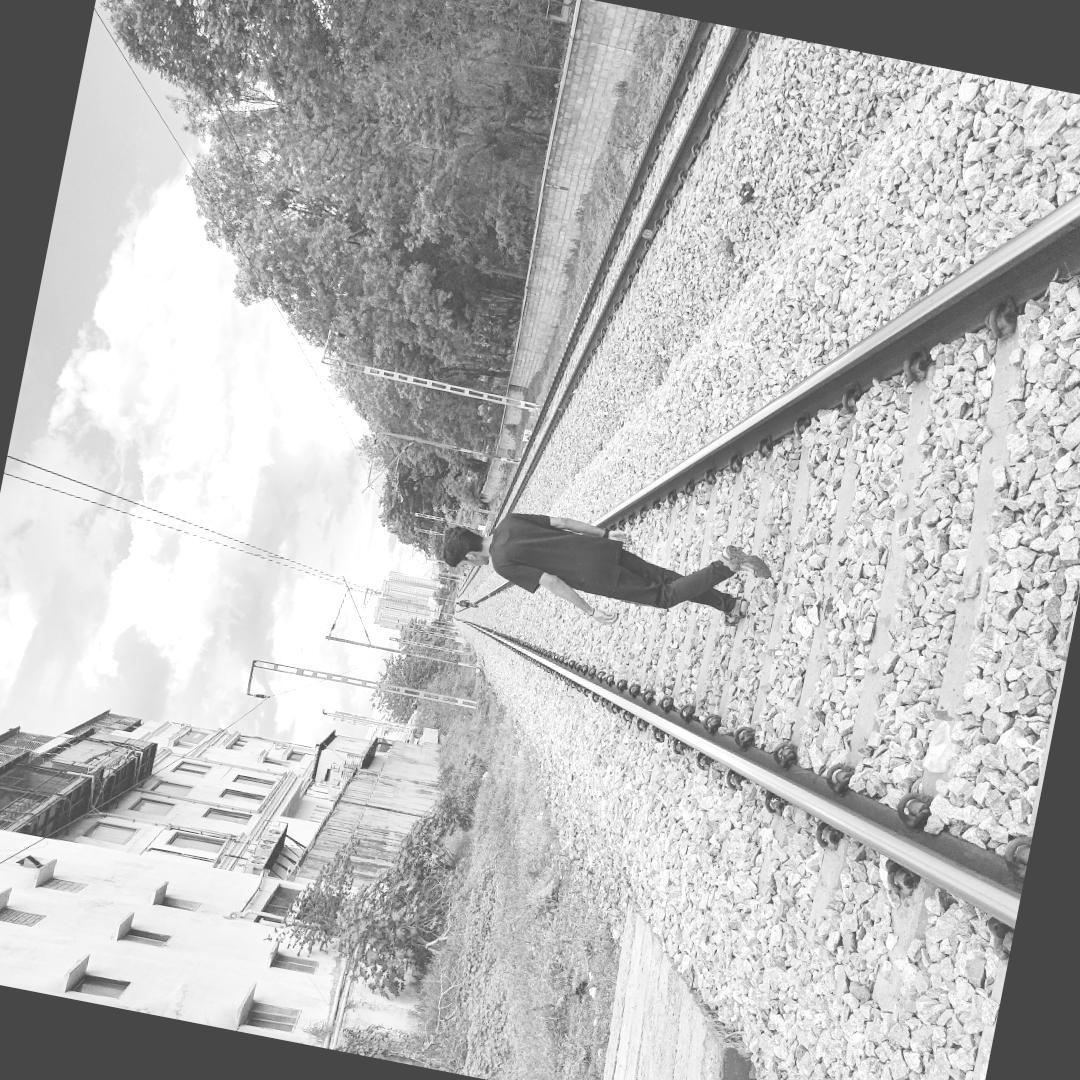standing: (428, 500, 780, 658)
